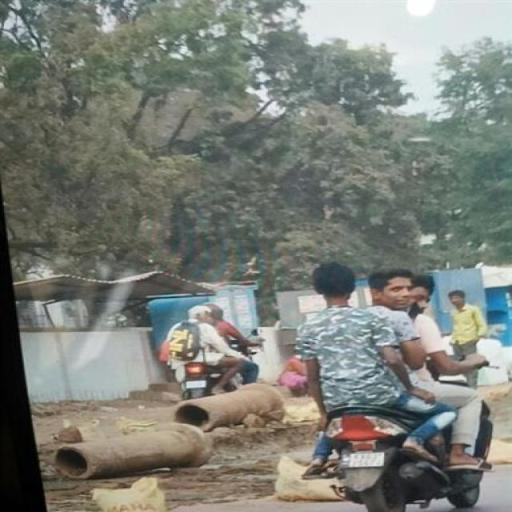tripple riding: (293, 256, 488, 404)
